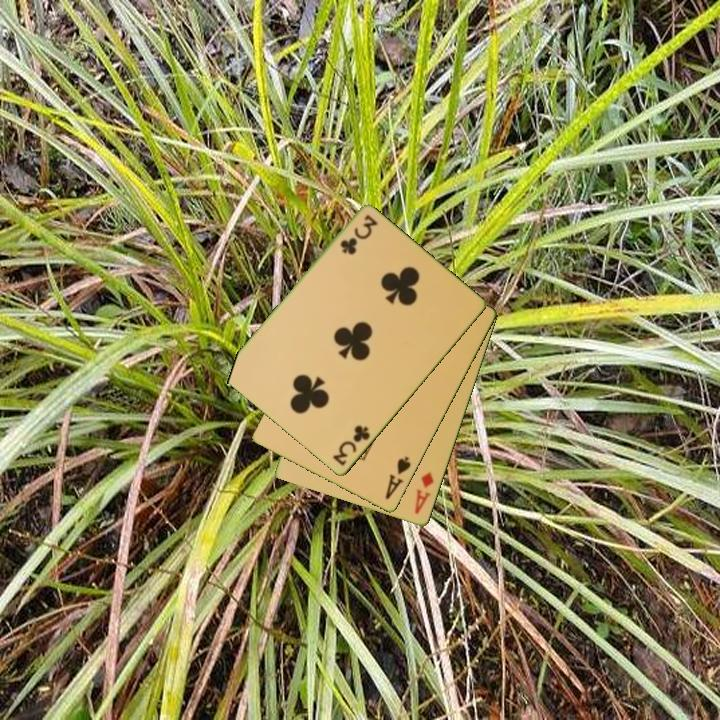3c: (329, 422, 373, 469), (336, 211, 380, 257)
Ad: (411, 469, 437, 517)
As: (382, 453, 414, 503)
